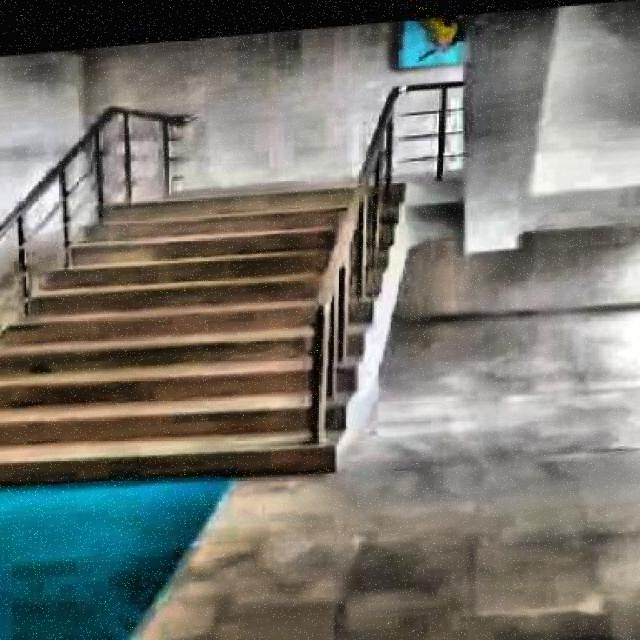stair: (2, 171, 418, 486)
